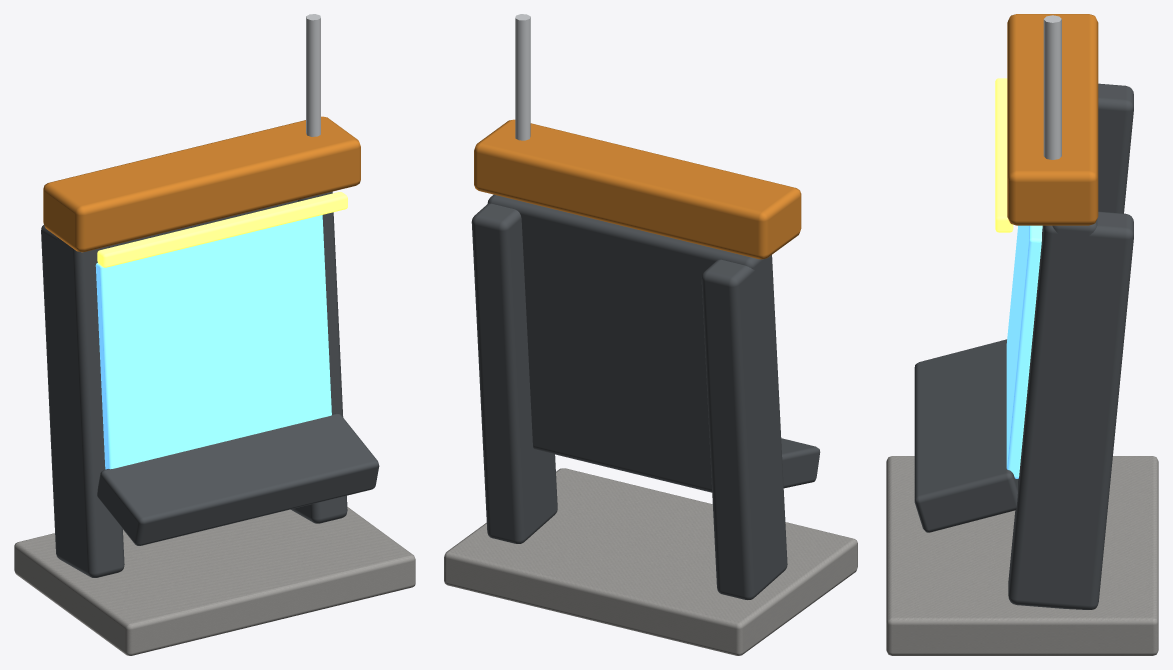
File: battle-royale-town-and-airfield-buy-station-be4ae942__28234.glb
3 renders of one model, left to right at view 1: azimuth 30°, elevation 25°; view 2: azimuth 150°, elevation 25°; view 3: azimuth 270°, elevation 25°, orthographic. The views are drawn at different scales.
Visible parts, largest first — view 1: buy-station; view 2: buy-station; view 3: buy-station.
Part boxes in pixels (x1,y1,x2,y2): buy-station: (14,14,415,655); buy-station: (444,14,857,655); buy-station: (886,14,1158,655).
Bounding box in the file's own units: 1.3 × 2.26 × 0.9.
Materials: 7 (1 with a texture image).
